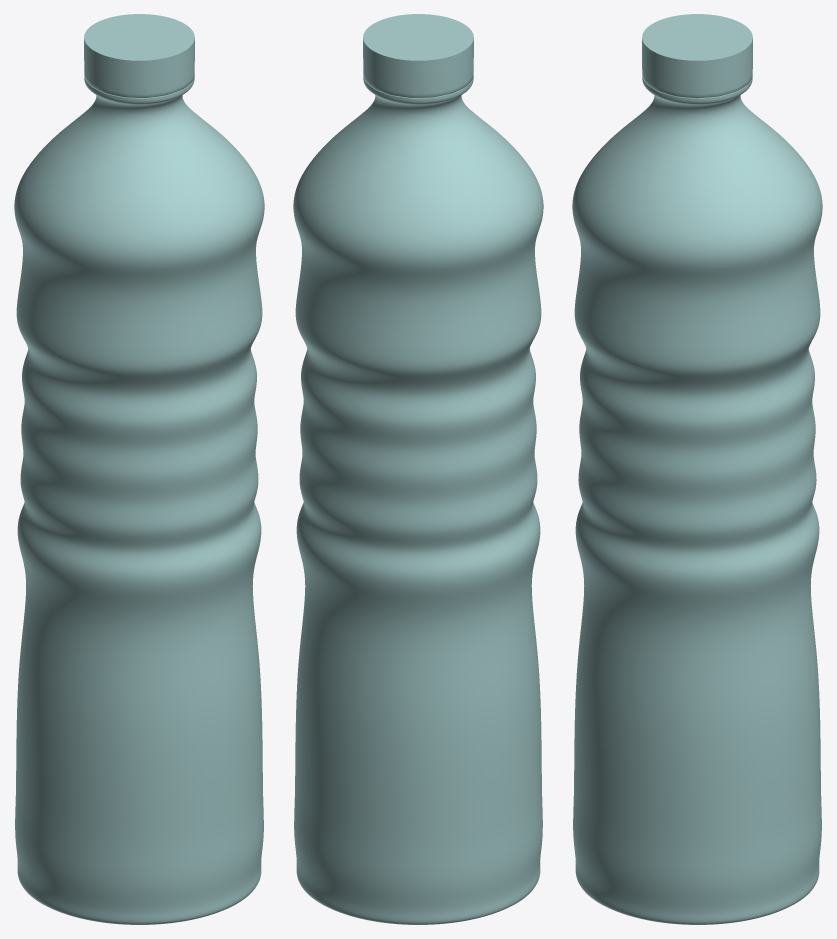
The model's file is bottle.fbx.
3 renders of one model, left to right at view 1: azimuth 30°, elevation 25°; view 2: azimuth 150°, elevation 25°; view 3: azimuth 270°, elevation 25°, orthographic.
Visible parts, largest first — view 1: Circle.000; view 2: Circle.000; view 3: Circle.000.
Part boxes in pixels (x1,y1,x2,y2): Circle.000: (14,14,264,924); Circle.000: (293,14,543,924); Circle.000: (572,14,822,924).
Bounding box in the file's own units: 194 × 715 × 194.
